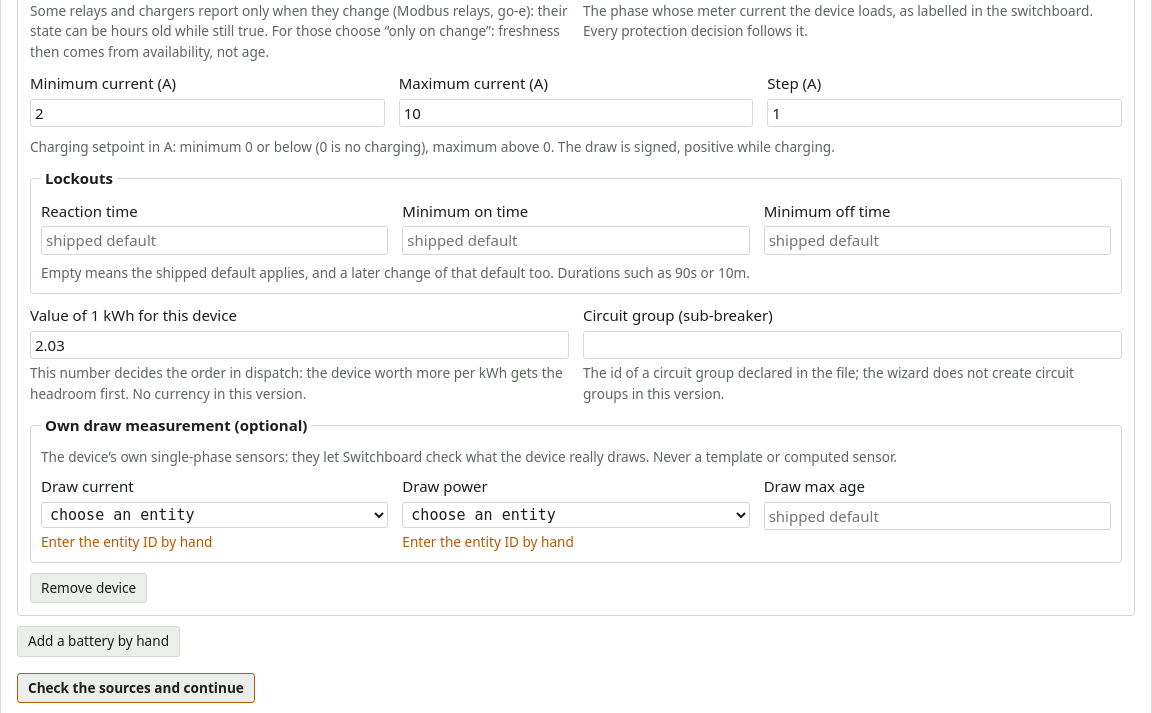
Test: energy storage › shows a storage device’s issues here, where its fields are
(page scrolled)
Click the button "Check the sources and continue" at [136, 688], box [17, 673, 255, 703]
(page scrolled)
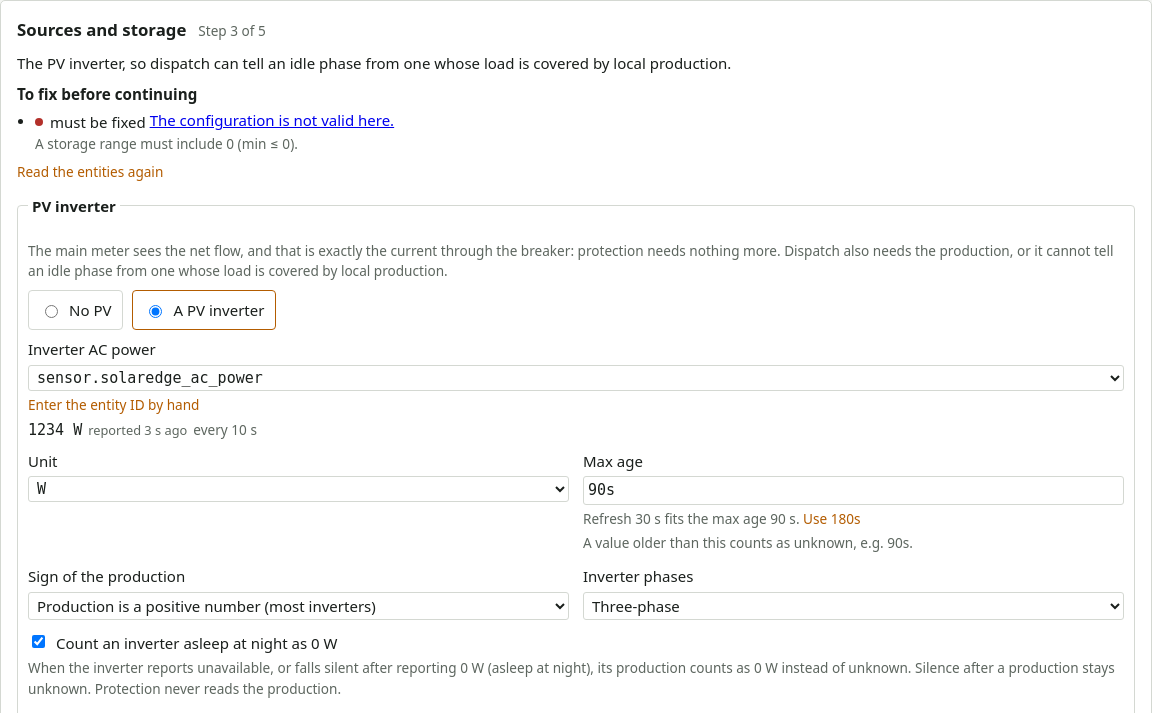
Now the list item with class "min" is shown, box [35, 110, 394, 153]
